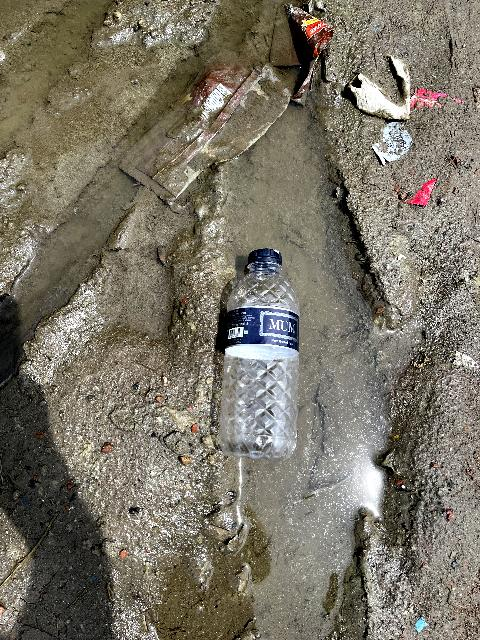bottle: (221, 250, 305, 458)
